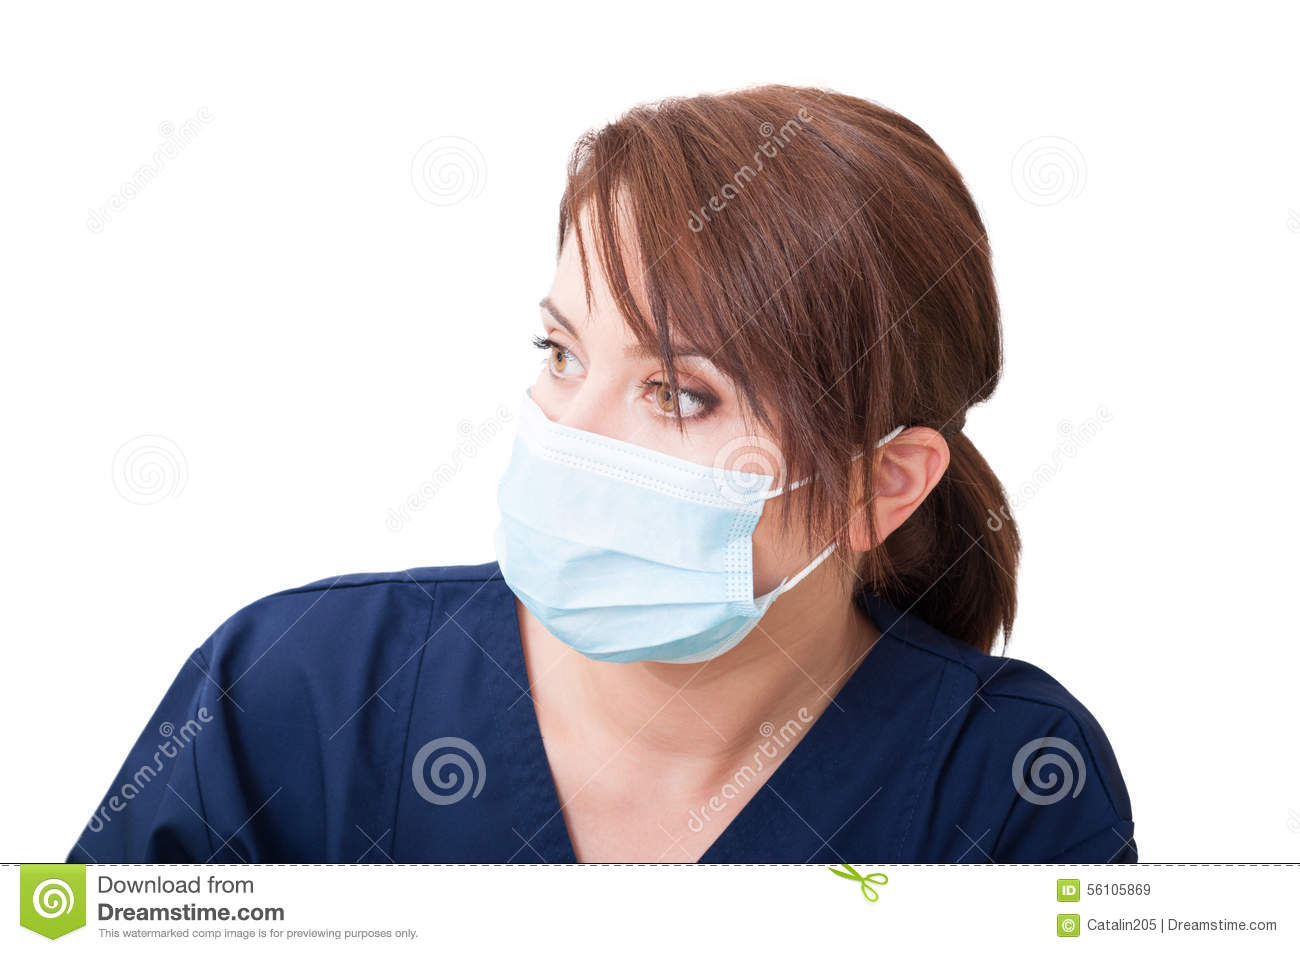mask: (489, 405, 785, 665)
